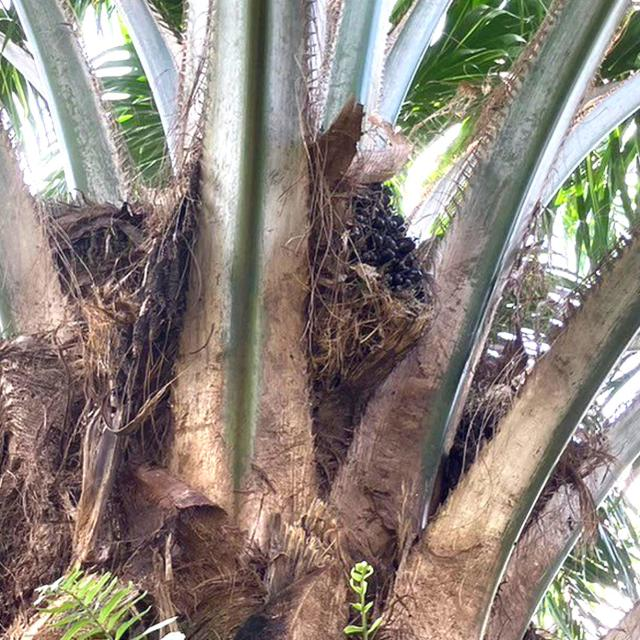unripe: (324, 180, 429, 308)
